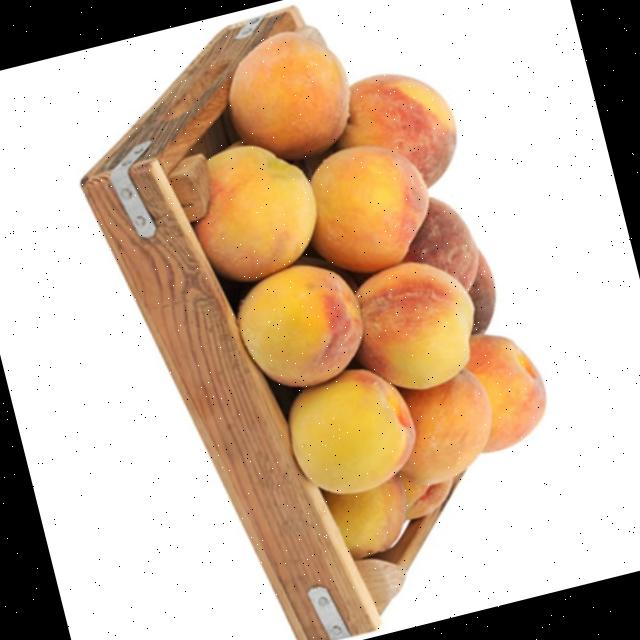peach: (194, 144, 315, 281), (227, 29, 348, 160), (288, 369, 412, 494), (236, 264, 362, 387), (309, 146, 428, 273), (355, 262, 472, 389), (336, 74, 455, 187), (400, 368, 490, 486), (466, 334, 545, 453), (401, 197, 477, 291)
